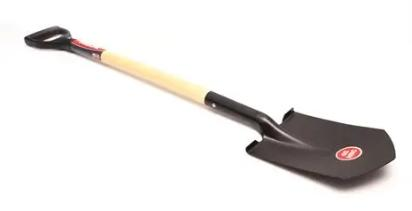PELLE: (22, 17, 412, 211)
